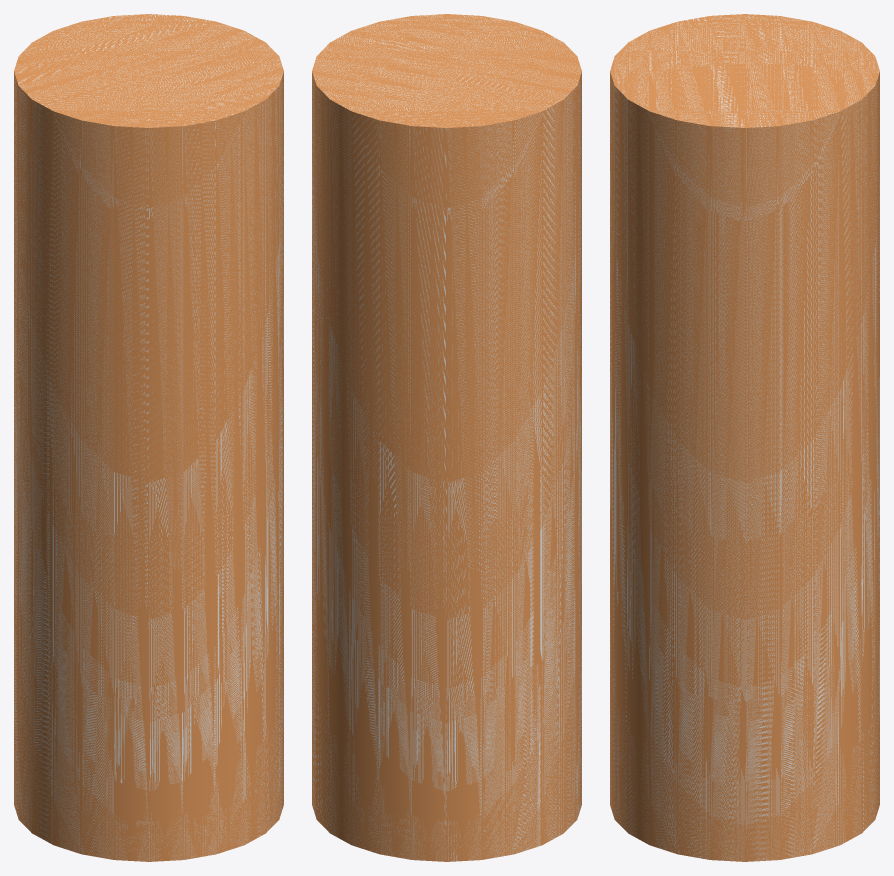
The model's file is original-39.obj.
3 views of the same model, side by side, from view 1: azimuth 30°, elevation 25°; view 2: azimuth 150°, elevation 25°; view 3: azimuth 270°, elevation 25° (orthographic).
Visible parts, largest first — view 1: Component_8_7/Component_8/mesh17/mesh17-geometry#mesh17-geometry; view 2: Component_8_7/Component_8/mesh17/mesh17-geometry#mesh17-geometry; view 3: Component_8_7/Component_8/mesh17/mesh17-geometry#mesh17-geometry.
Part boxes in pixels (x1,y1,x2,y2): Component_8_7/Component_8/mesh17/mesh17-geometry#mesh17-geometry: (14, 14, 283, 861); Component_8_7/Component_8/mesh17/mesh17-geometry#mesh17-geometry: (312, 14, 581, 861); Component_8_7/Component_8/mesh17/mesh17-geometry#mesh17-geometry: (610, 14, 879, 861).
Bounding box in the file's own units: 0.00657 × 0.0197 × 0.00657.
